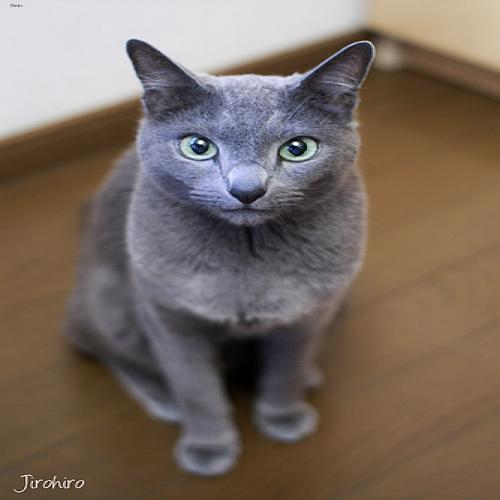rblue: (112, 28, 391, 240)
